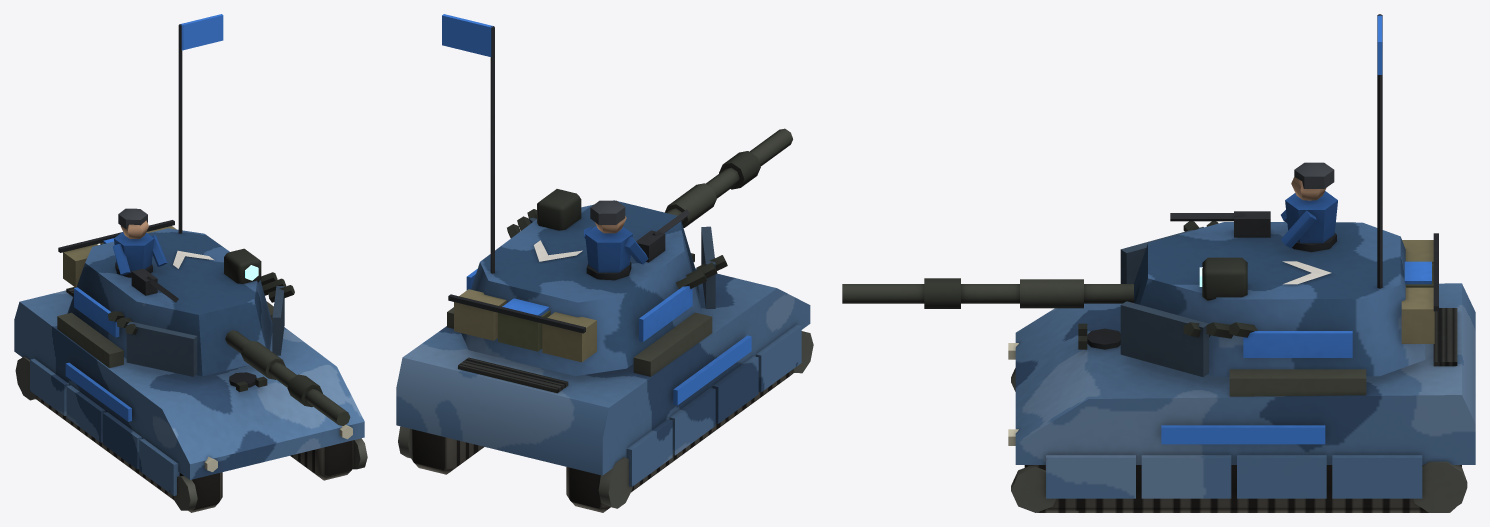
The model's file is assault_dl7_blue.glb.
3 views of the same model, side by side, from view 1: azimuth 30°, elevation 25°; view 2: azimuth 150°, elevation 25°; view 3: azimuth 270°, elevation 25° (orthographic). The views are drawn at different scales.
Visible parts, largest first — view 1: assault_dl7_blue; view 2: assault_dl7_blue; view 3: assault_dl7_blue.
Boxes of the visible parts, x1,y1,x2,y2 form: assault_dl7_blue: [14, 14, 367, 512]; assault_dl7_blue: [396, 14, 813, 512]; assault_dl7_blue: [842, 14, 1475, 512].
Size of the model in its own units: 0.31 by 0.575 by 0.695.
2 materials, 1 textured.
